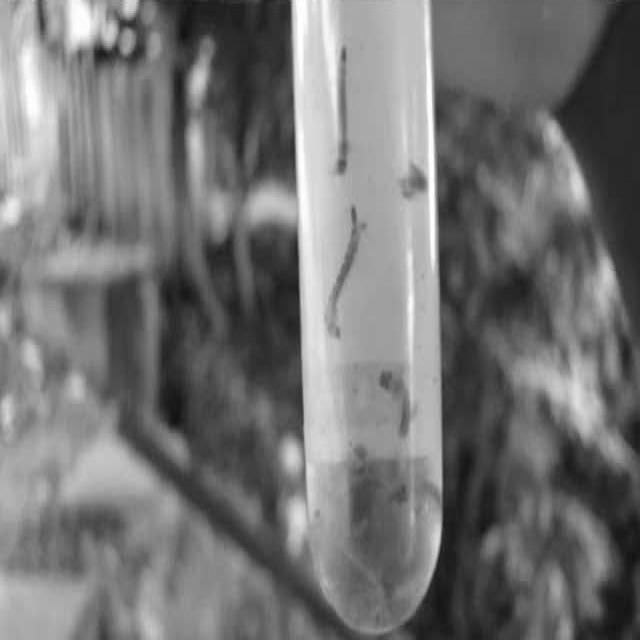larvas: (326, 208, 365, 336), (330, 534, 394, 594), (323, 470, 385, 501), (384, 367, 411, 437), (336, 48, 350, 178), (392, 482, 440, 512), (404, 160, 428, 204)
